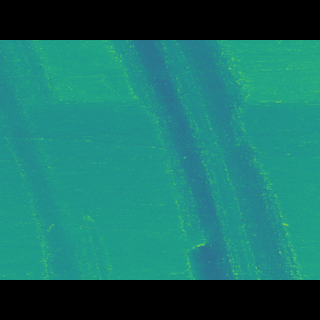Loch: (109, 70, 306, 250), (0, 69, 112, 250)
